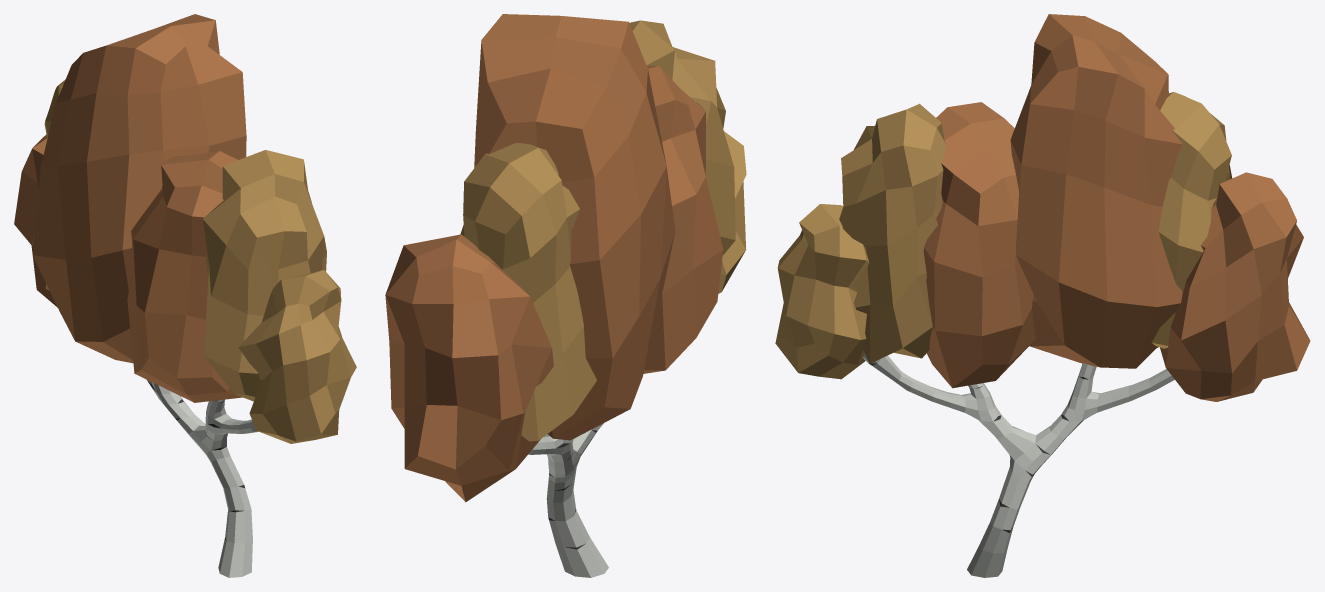
File: BirchTree_Autumn_4.glb
3 renders of one model, left to right at view 1: azimuth 30°, elevation 25°; view 2: azimuth 150°, elevation 25°; view 3: azimuth 270°, elevation 25°, orthographic. The views are drawn at different scales.
Parts seen in each view (by area): view 1: Orange, LightOrange, White; view 2: Orange, LightOrange, White; view 3: Orange, LightOrange, White.
Boxes of the visible parts, x1,y1,x2,y2 form: Orange: [14, 14, 246, 402]; LightOrange: [44, 79, 356, 443]; White: [147, 380, 258, 577]; Orange: [385, 14, 723, 502]; LightOrange: [460, 20, 746, 441]; White: [528, 423, 608, 577]; Orange: [923, 14, 1310, 401]; LightOrange: [775, 92, 1232, 379]; White: [863, 353, 1174, 577].
Bounding box in the file's own units: 1.15 × 3.56 × 3.29.
